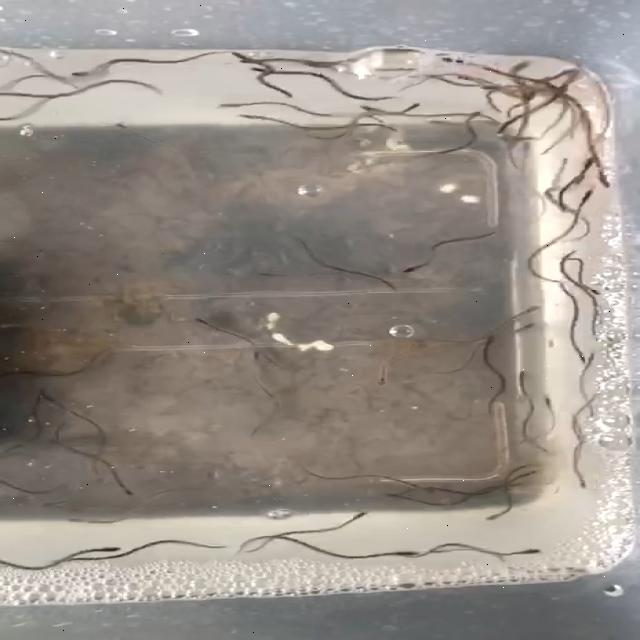inactive_glass_eel: (504, 57, 544, 78), (502, 320, 548, 338), (587, 170, 622, 190), (356, 98, 390, 118), (34, 387, 66, 407), (574, 154, 600, 178), (510, 302, 548, 318), (380, 546, 422, 560), (429, 54, 477, 66), (398, 261, 434, 277), (373, 276, 405, 294), (236, 110, 277, 124), (581, 348, 604, 372), (214, 96, 256, 109), (576, 278, 610, 294), (346, 508, 380, 524), (228, 50, 266, 64), (246, 65, 286, 78), (516, 368, 536, 393), (478, 510, 512, 524), (566, 340, 584, 366), (188, 314, 214, 332), (45, 552, 87, 563), (380, 486, 408, 502), (238, 346, 266, 362), (540, 395, 562, 415), (85, 546, 129, 556), (462, 108, 486, 126), (371, 364, 390, 386), (68, 68, 102, 80), (229, 58, 279, 66), (476, 334, 502, 349), (111, 480, 134, 496), (572, 472, 591, 491), (516, 544, 546, 556), (544, 332, 562, 349)
